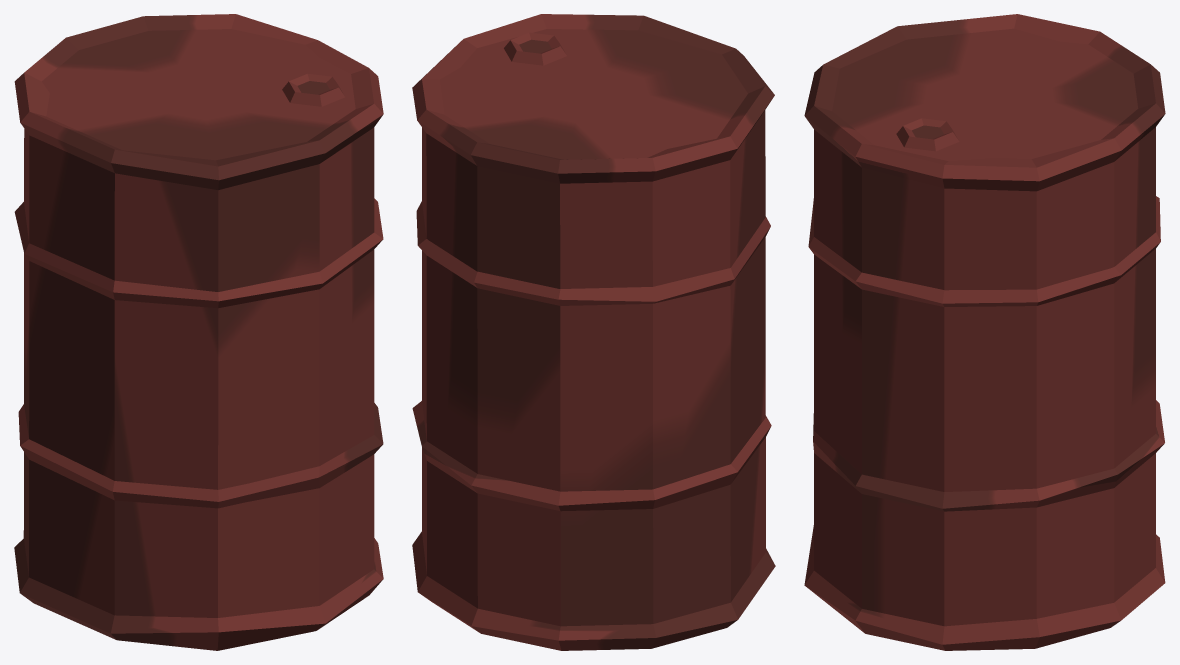
File: SM_Prop_Barrel_02.glb
The picture shows the model from 3 angles, left to right: view 1: azimuth 30°, elevation 25°; view 2: azimuth 150°, elevation 25°; view 3: azimuth 270°, elevation 25°; orthographic projection.
Visible parts, largest first — view 1: SM_Prop_Barrel_02; view 2: SM_Prop_Barrel_02; view 3: SM_Prop_Barrel_02.
Part boxes in pixels (<box>): SM_Prop_Barrel_02: <box>14,14,383,650</box>; SM_Prop_Barrel_02: <box>412,14,775,650</box>; SM_Prop_Barrel_02: <box>804,14,1165,650</box>.
Size of the model in its own units: 0.7111 by 1.05 by 0.6963.
Materials: 1 (1 with a texture image).
